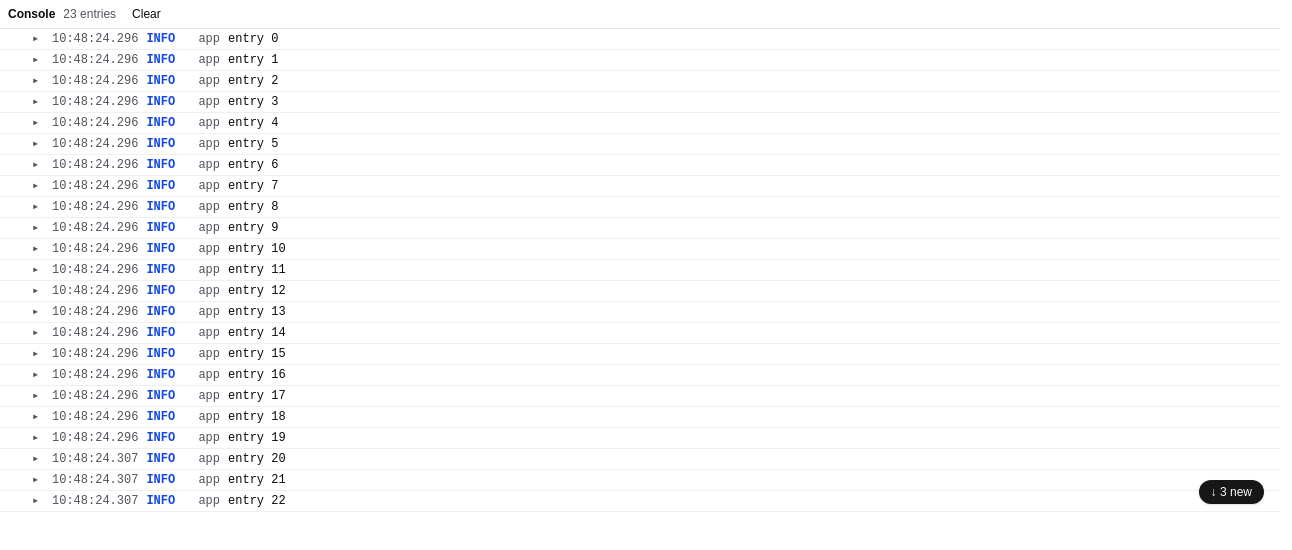
useStickToBottom (through ConsoleEntryList) › clicking "↓ N new" jumps to the bottom, hides the button and turns auto-scroll back on
Click the button "↓ 3 new": (1231, 492) left=1199, top=480, right=1264, bottom=504
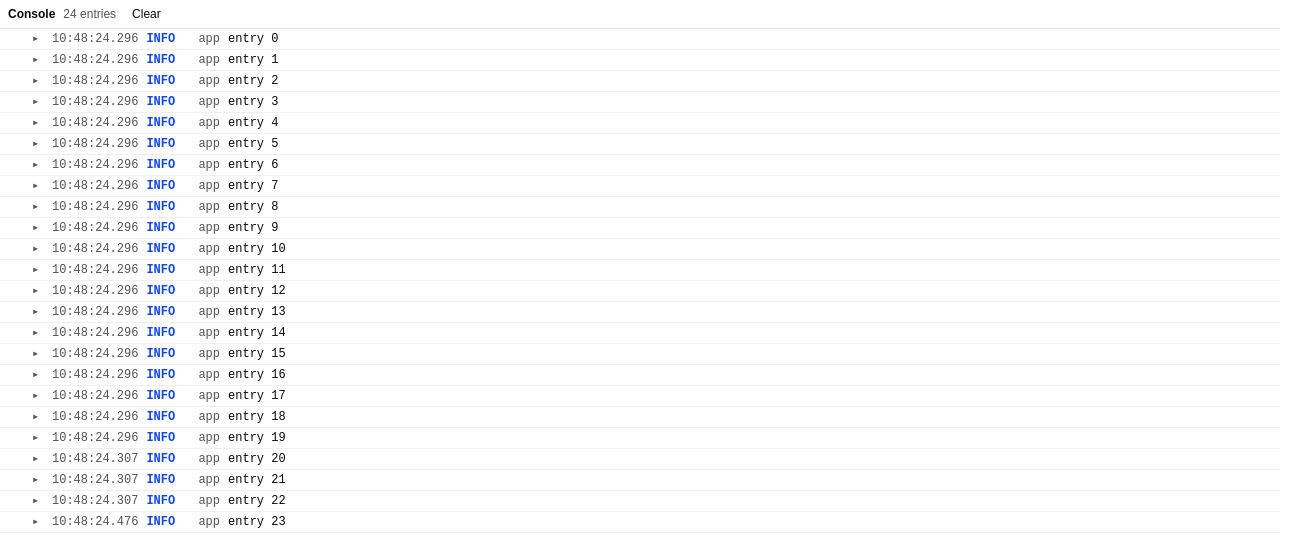
Check: the button "↓ 3 new" is gone
